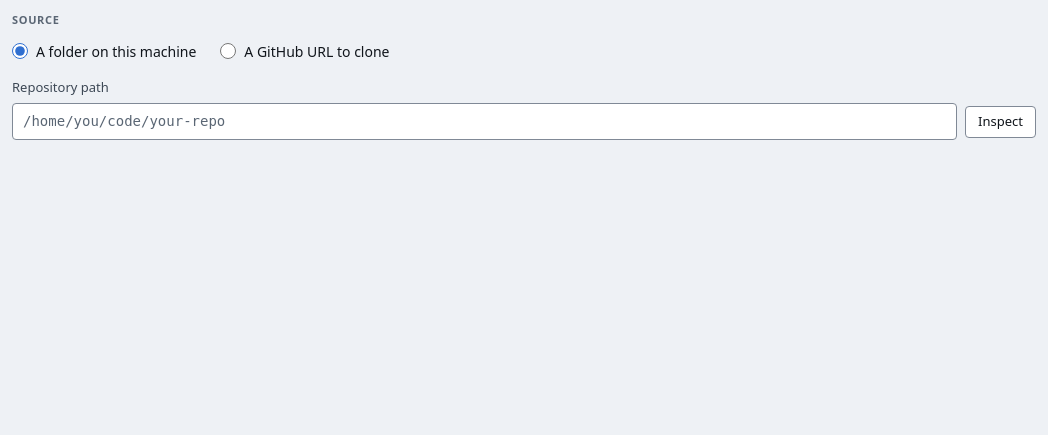
Test case: WorkspacePicker › selects a repo and tells its parent
In the field labelled "Repository path": (485, 122) [12,103,957,140], type "/repos/app"
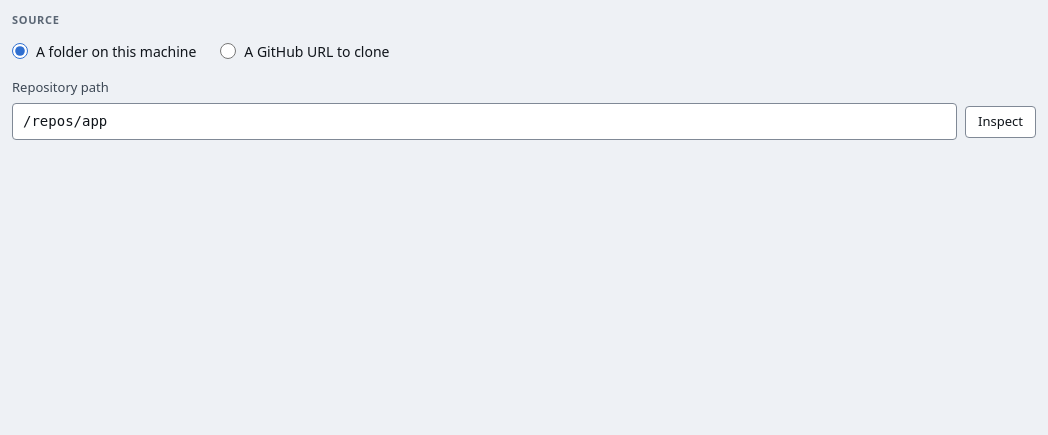
Submit the form "Inspect", box [12,12,1036,140]
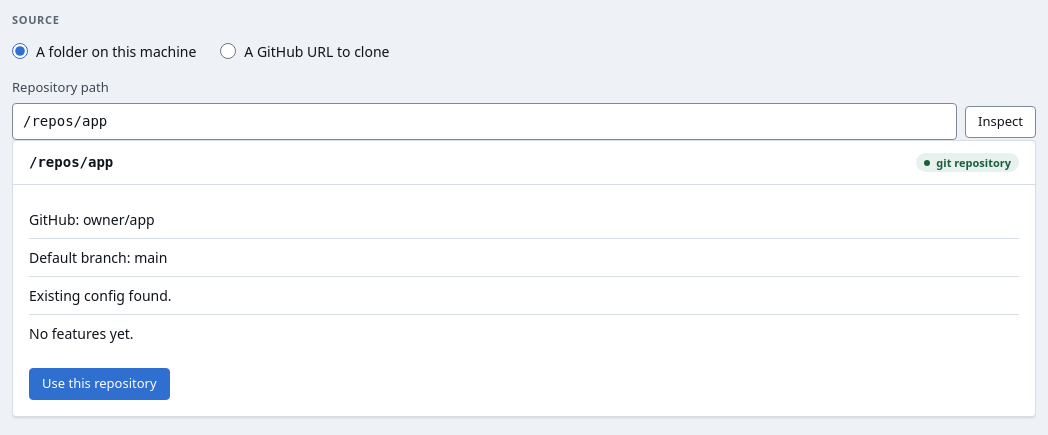
Click the button "Use this repository": (99, 384) [29,368,170,400]
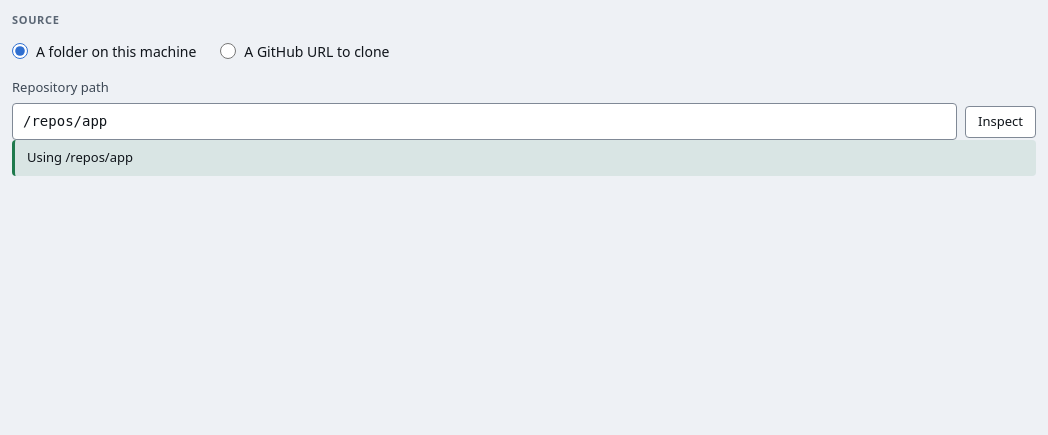
Check: the message shows "/repos/app", box [27,148,133,166]
